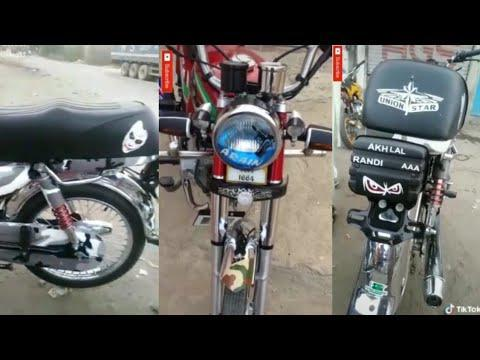bike: (160, 46, 332, 314), (335, 44, 470, 317), (1, 81, 160, 291)
